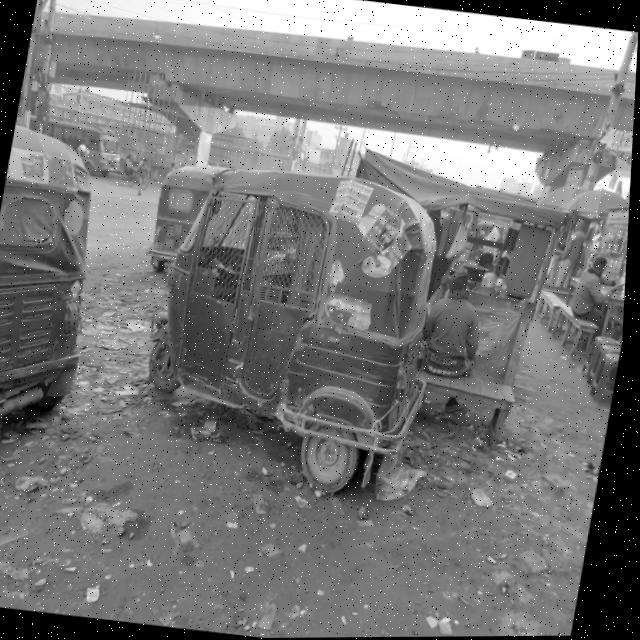cng: (86, 118, 486, 545)
